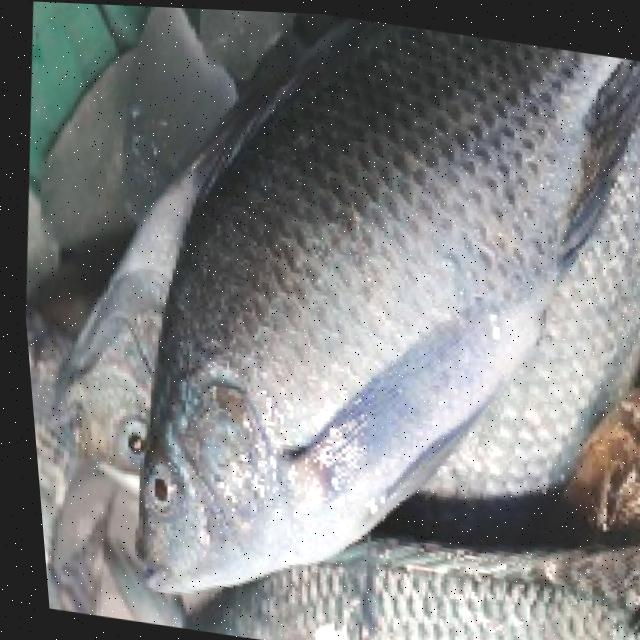Fresh: (97, 3, 572, 548), (120, 446, 183, 519)
